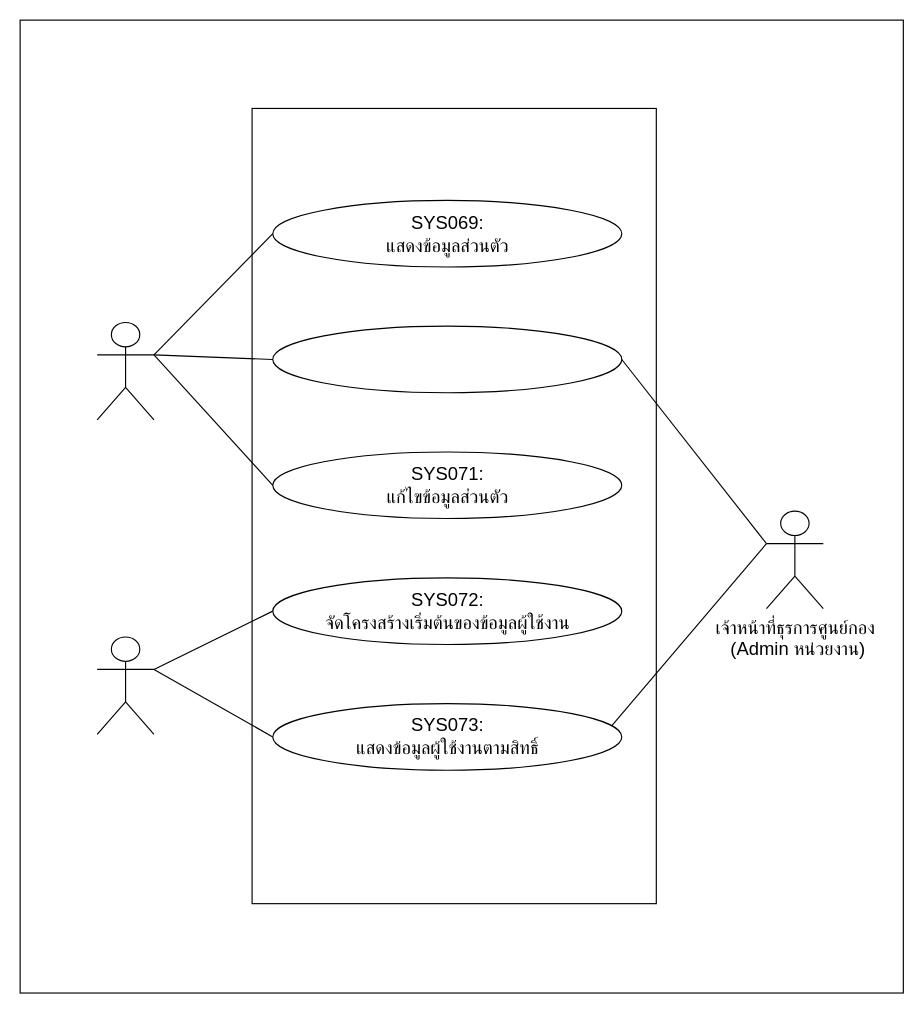
Image size: 923x1013. Some labels were removed from this diagram. The centre of each missing label's shape, as x and y in pixels:
SYS070: เปิดเมนูข้อมูลผู้ใช้งานที่เกี่ยวข้อง: point (447, 359)
บุคลากร สำนักงาน ป.ป.ท.: point (125, 370)
เจ้าหน้าที่ศูนย์ เทคโนโลยีสารสนเทศฯ: point (125, 685)
